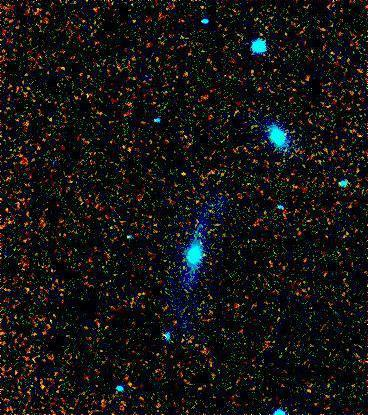star: (168, 158, 198, 188)
